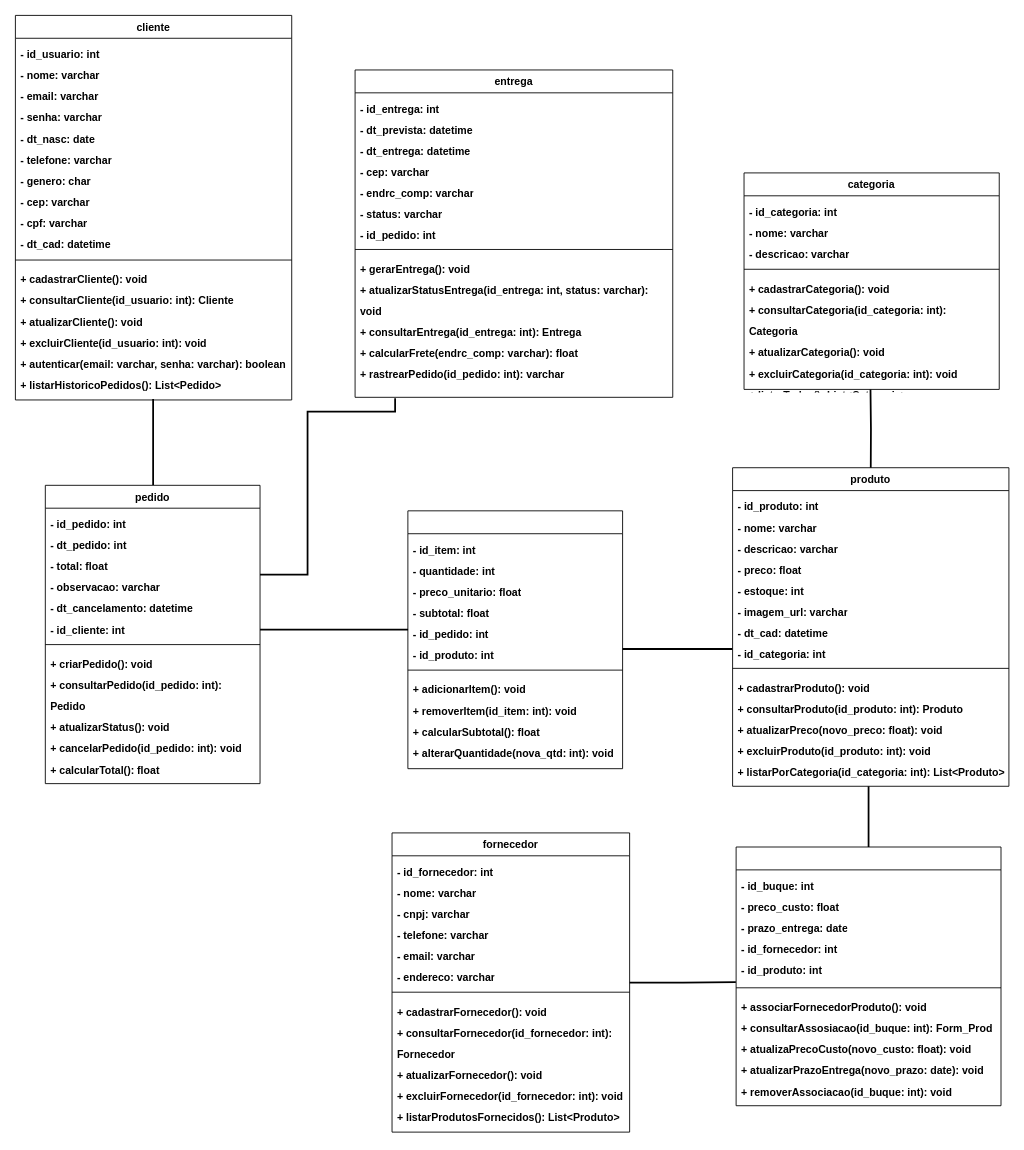
This 1024x1150 diagram has some shape labels left out. Each missing label, with the box of its shape:
forn_prod: (735, 846, 1001, 1106)
item_pedido: (407, 510, 623, 769)
